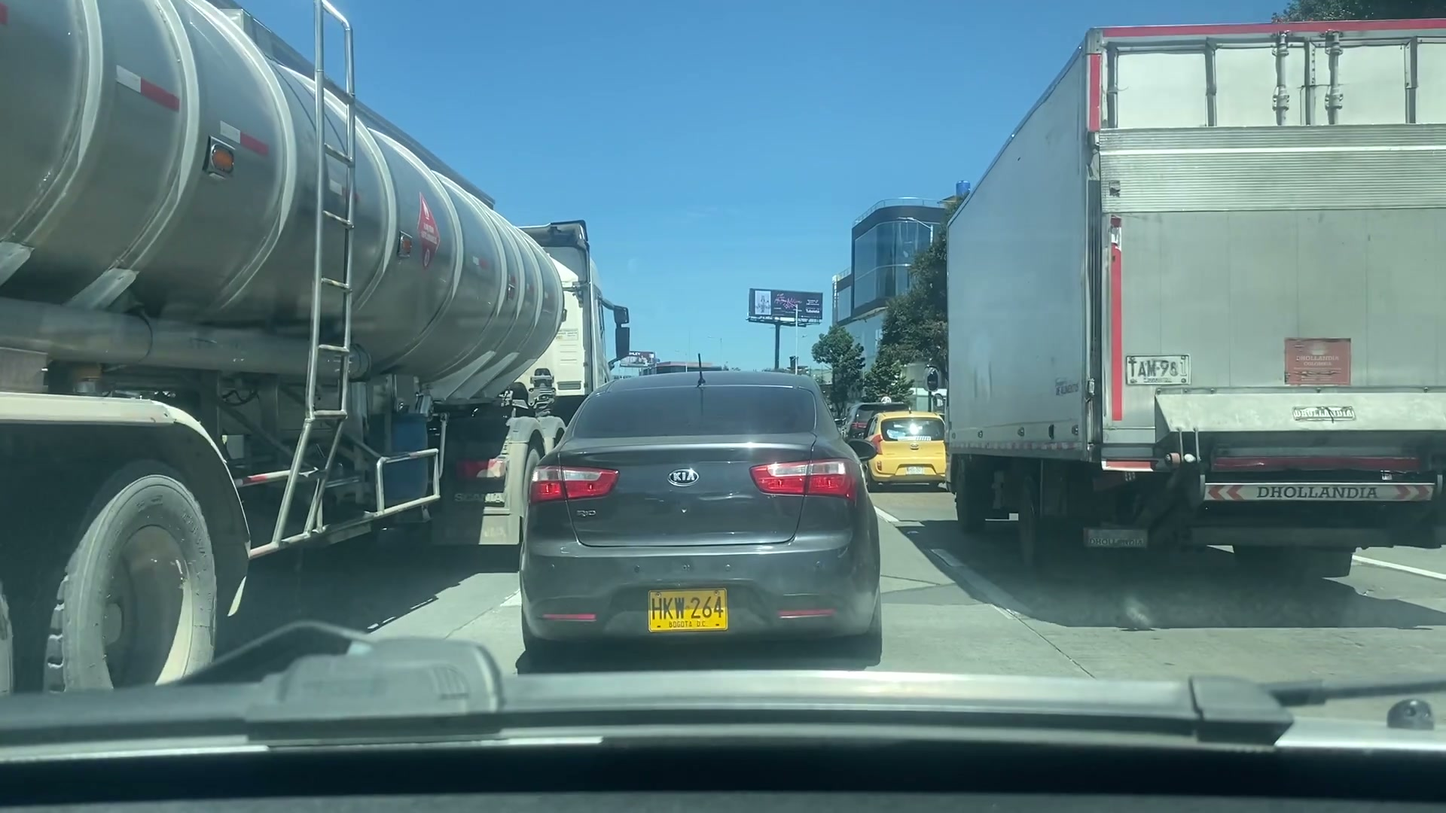car: (520, 369, 884, 670), (864, 414, 955, 489), (842, 397, 915, 454)
truck: (0, 1, 629, 696), (922, 19, 1446, 593)
